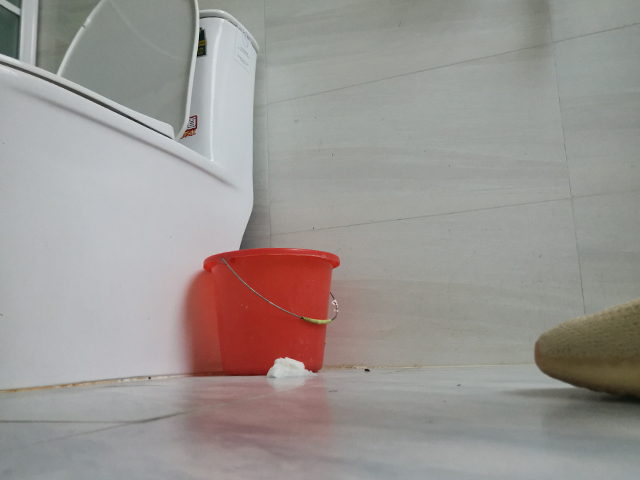closestool: (1, 1, 260, 395)
